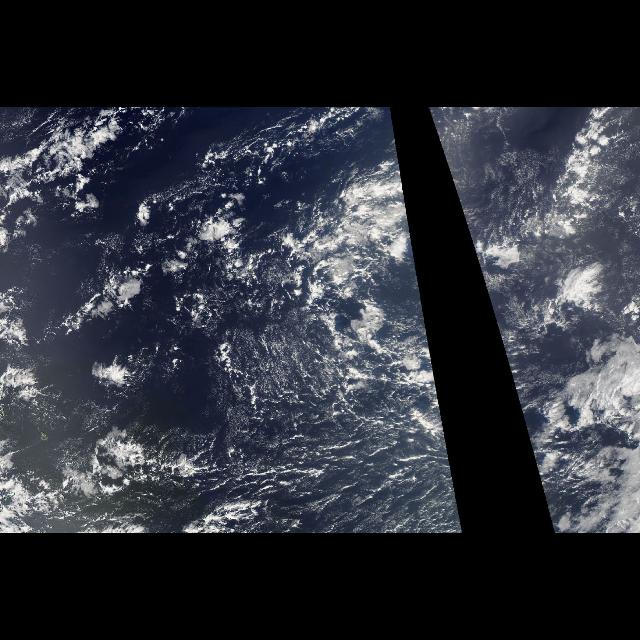Sugar: (208, 300, 452, 528)
